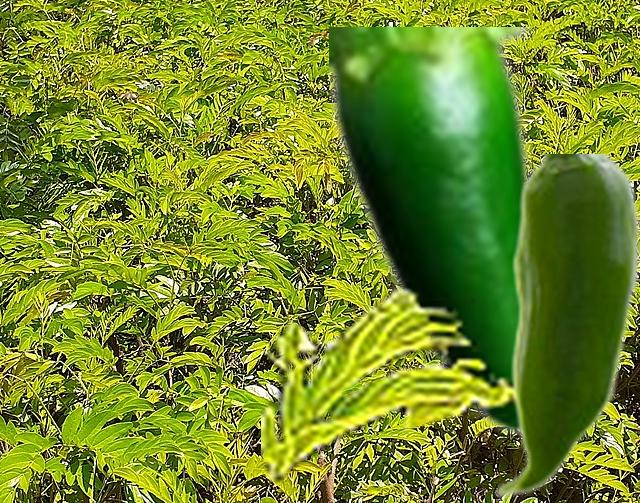green_chili: (329, 27, 543, 437), (492, 154, 638, 499)
